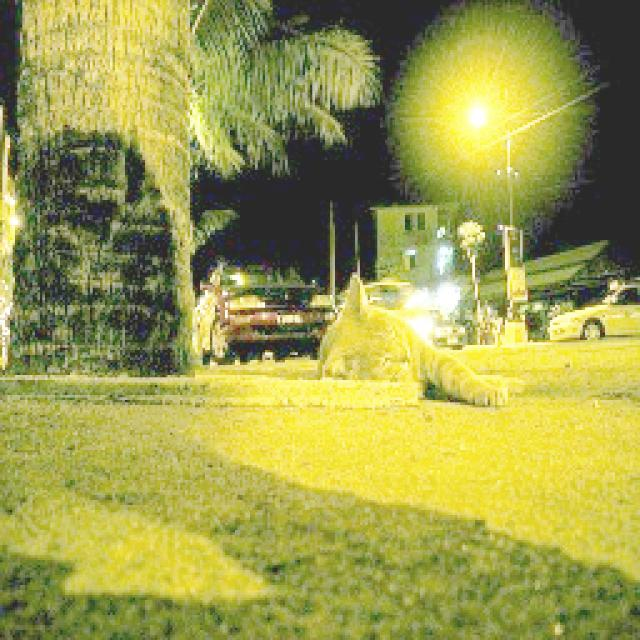cat: (290, 251, 534, 427)
